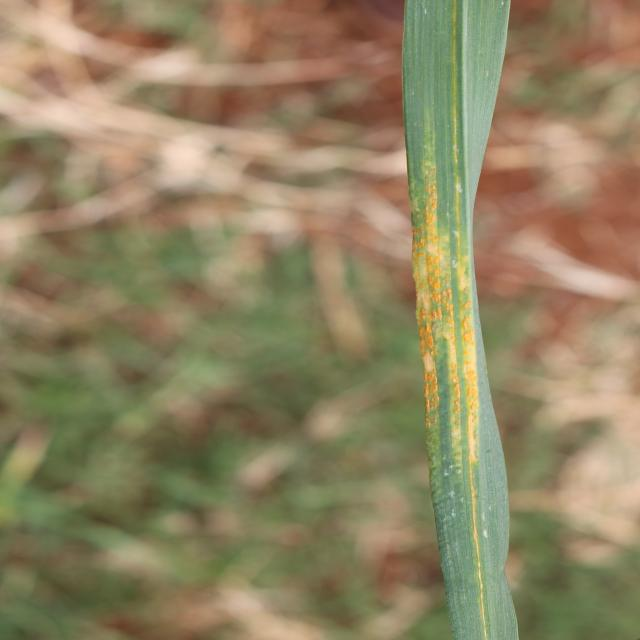Stripe Rust: (408, 102, 487, 472)
